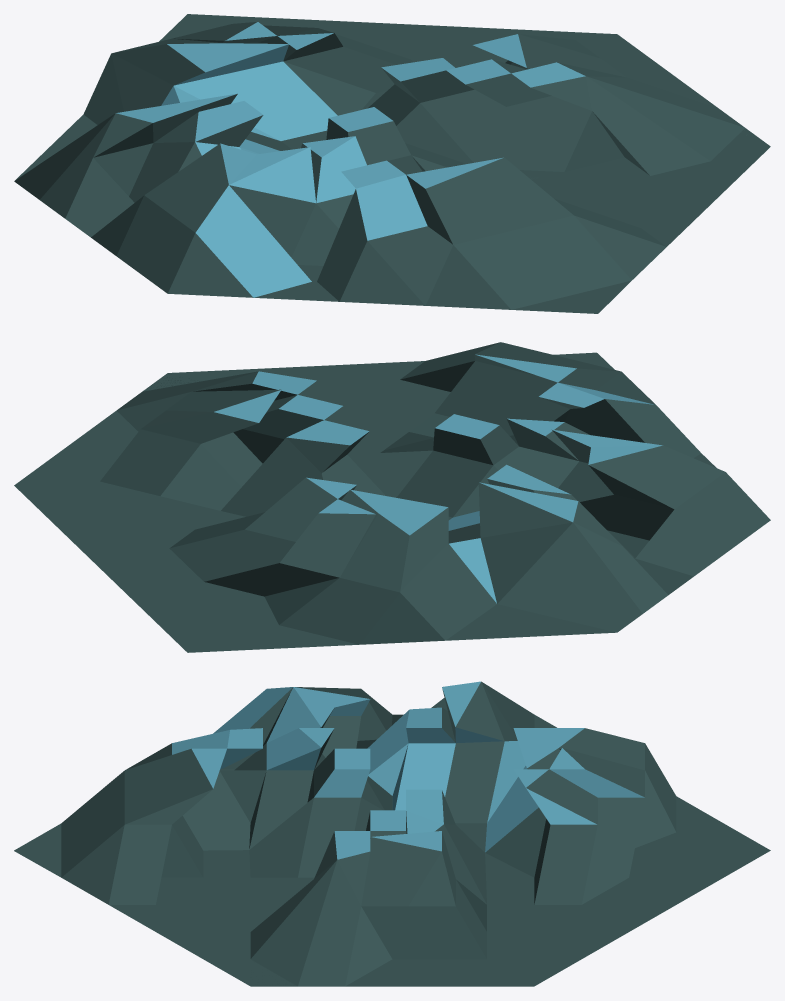
File: ore.fbx
3 renders of one model, top to bottom at view 1: azimuth 30°, elevation 25°; view 2: azimuth 150°, elevation 25°; view 3: azimuth 270°, elevation 25°, orthographic. The views are drawn at different scales.
Parts seen in each view (by area): view 1: Plane; view 2: Plane; view 3: Plane.
Part boxes in pixels (x1=…): Plane: x1=14, y1=14, x2=770, y2=313; Plane: x1=14, y1=342, x2=770, y2=652; Plane: x1=14, y1=681, x2=770, y2=986.
Size of the model in its own units: 1.7 by 0.209 by 2.
